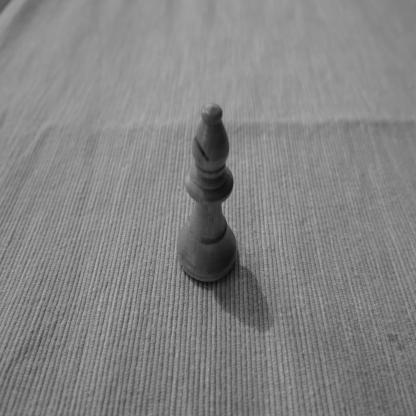white-bishop: (176, 102, 238, 284)
